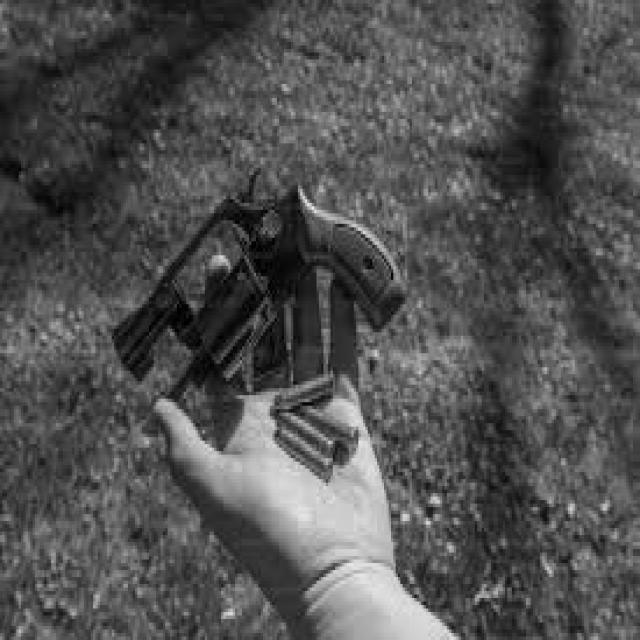handgun: (106, 158, 415, 388)
